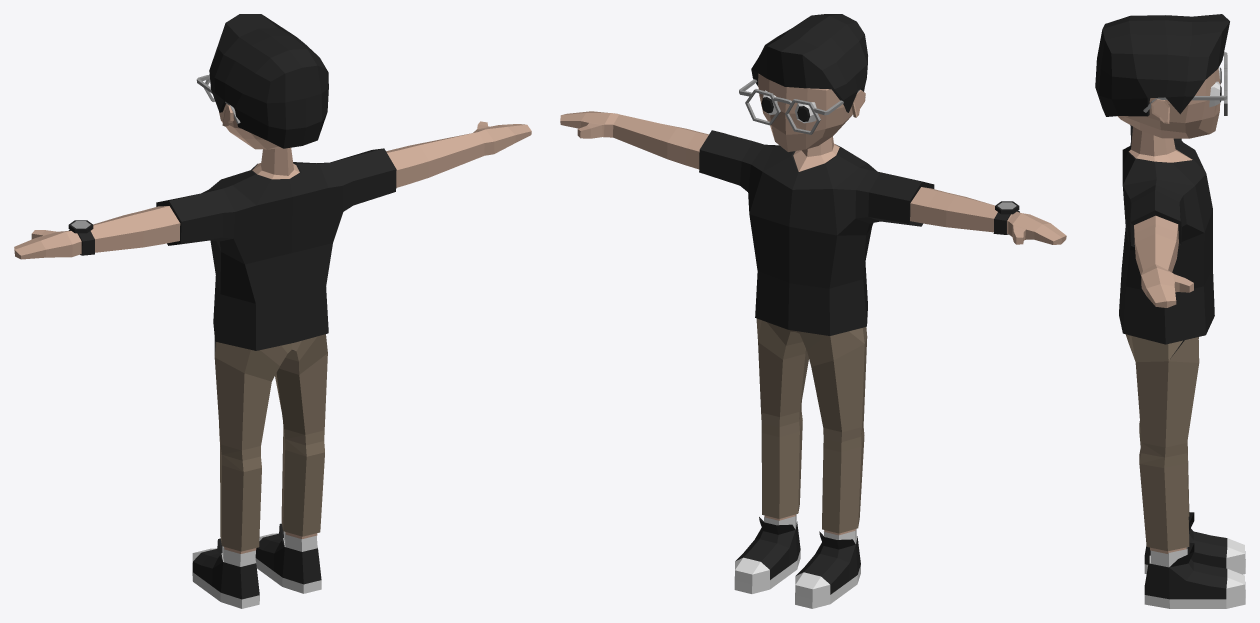
Rendered from KalEl.fbx.
3 views of the same model, side by side, from view 1: azimuth 30°, elevation 25°; view 2: azimuth 150°, elevation 25°; view 3: azimuth 270°, elevation 25° (orthographic). The views are drawn at different scales.
Visible parts, largest first — view 1: Boy; view 2: Boy; view 3: Boy.
Part boxes in pixels (x1=…): Boy: x1=14, y1=14, x2=531, y2=608; Boy: x1=560, y1=14, x2=1066, y2=608; Boy: x1=1095, y1=14, x2=1245, y2=608.
Size of the model in its own units: 174 by 180 by 43.52.
